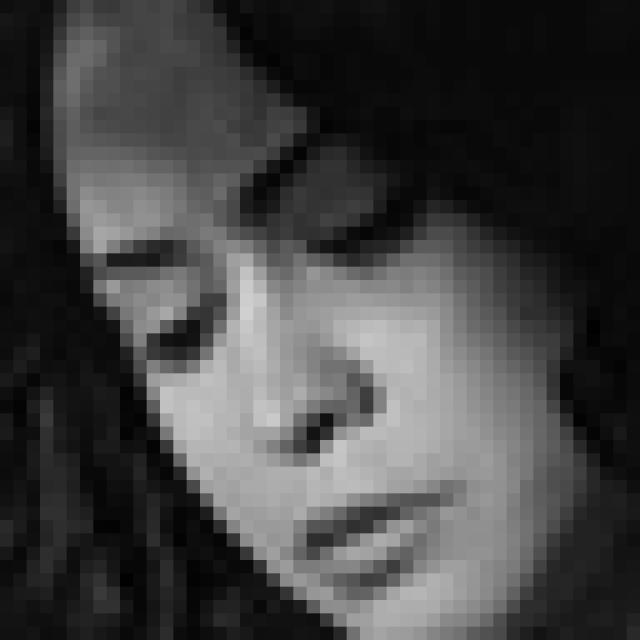sad: (95, 108, 468, 610)
